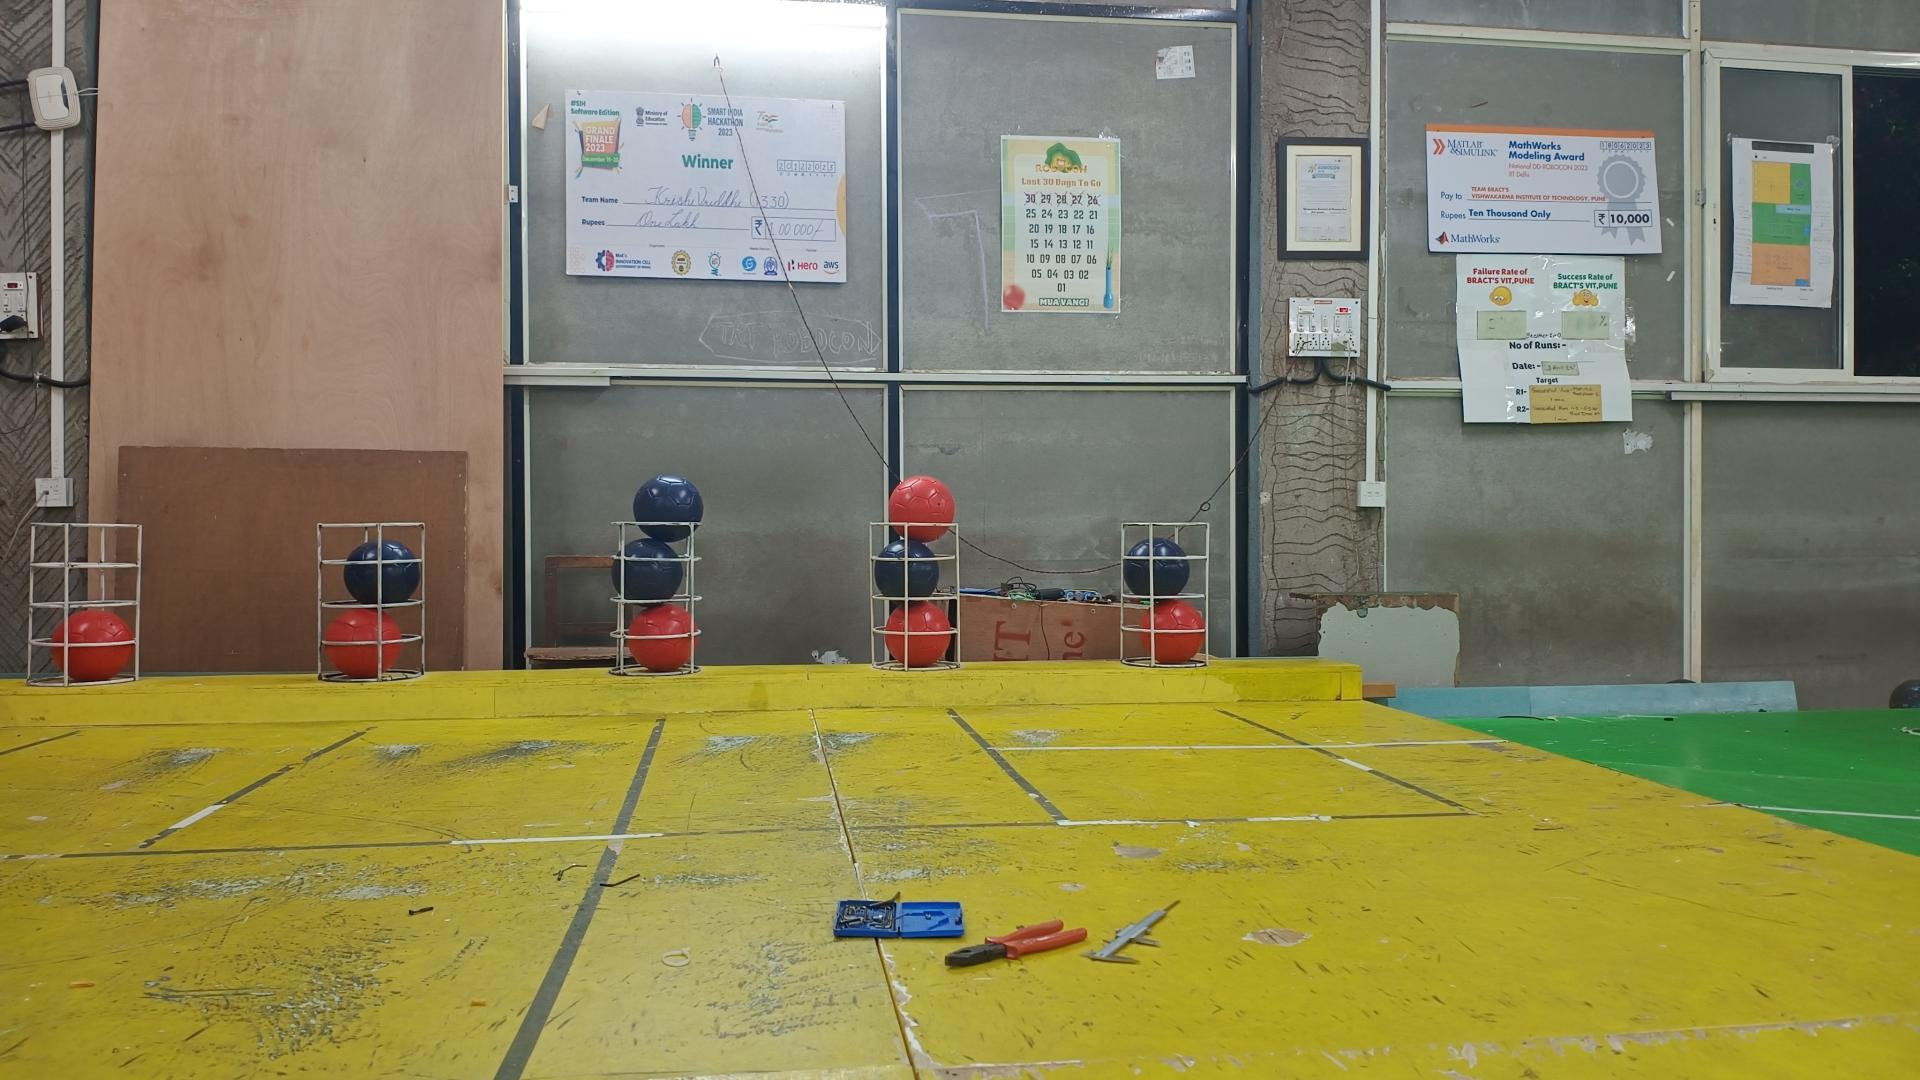dhoka: (634, 472, 705, 541), (345, 541, 419, 604), (612, 537, 683, 600), (874, 537, 938, 596), (1125, 537, 1188, 596)
laale: (49, 608, 135, 683), (323, 608, 401, 679), (626, 604, 698, 671), (885, 600, 952, 667), (889, 476, 956, 541), (1139, 600, 1204, 663)
